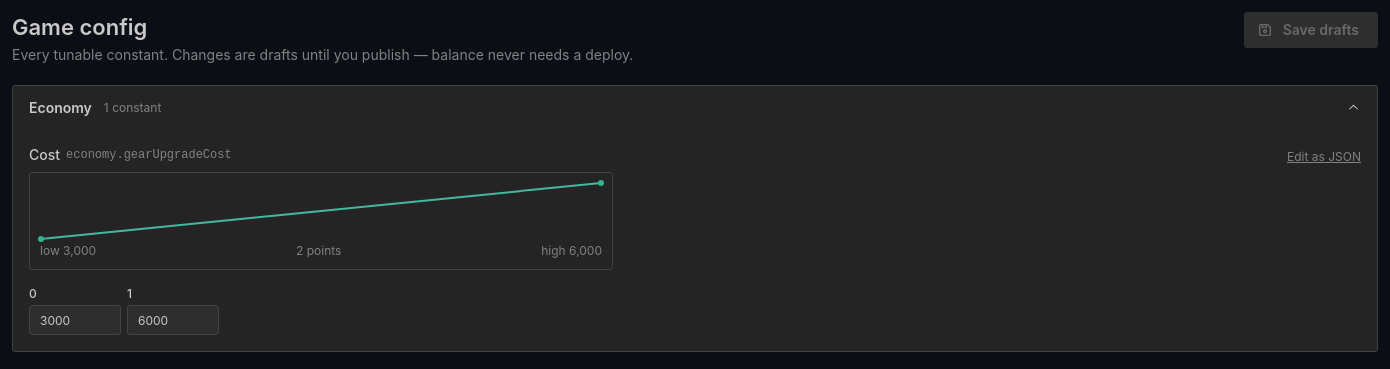
Test: GameConfigPage › still offers raw JSON, for the edits a curve cannot express
Click the button "Edit as JSON".
click(1324, 157)  # box [1287,149,1361,166]
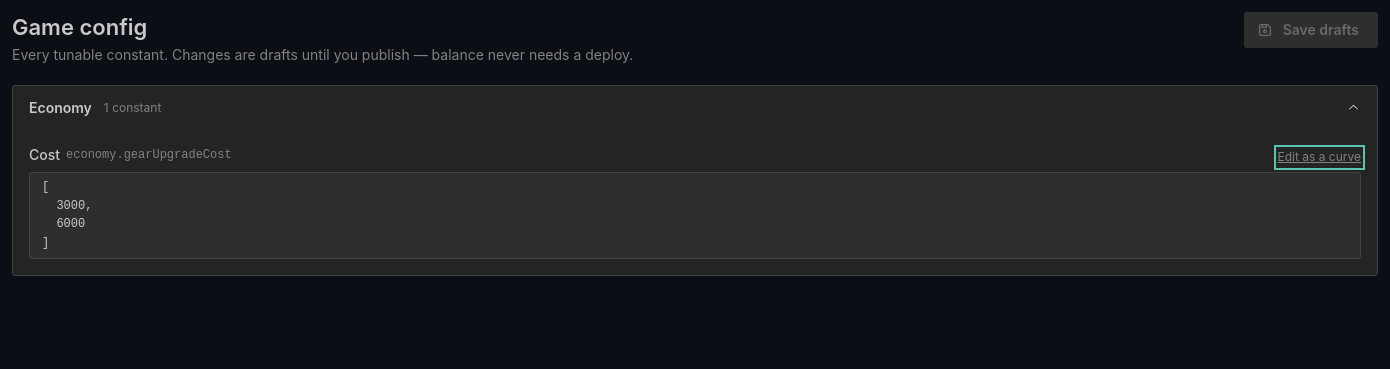
Result: the text box is shown at [29,172,1361,259]
